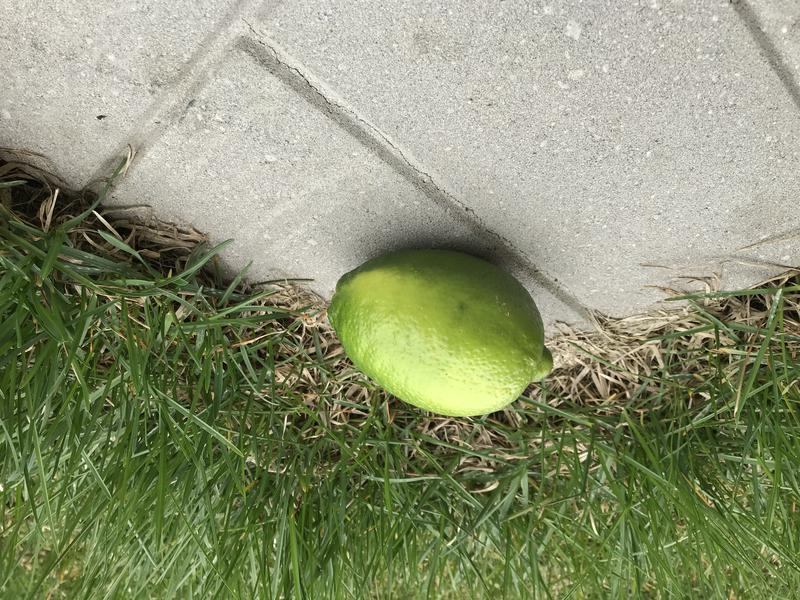lime: (318, 235, 572, 435)
